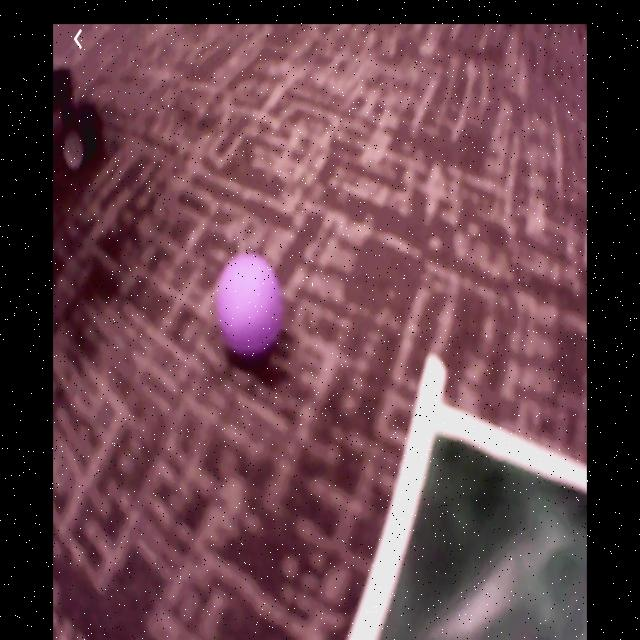ball: (216, 253, 285, 359)
